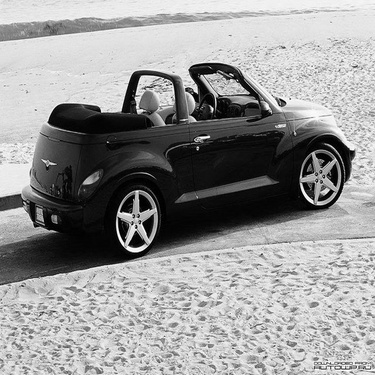car: (13, 58, 361, 260)
